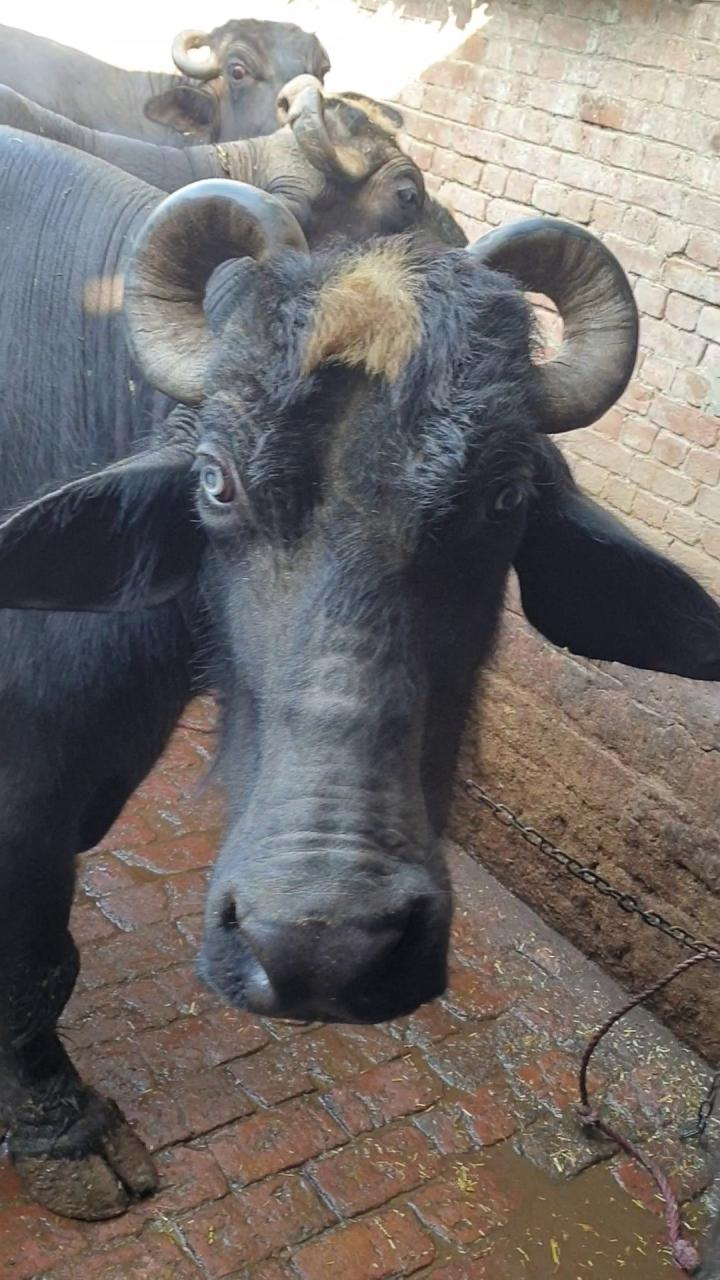cows: (180, 162, 577, 1026), (195, 10, 345, 140)
